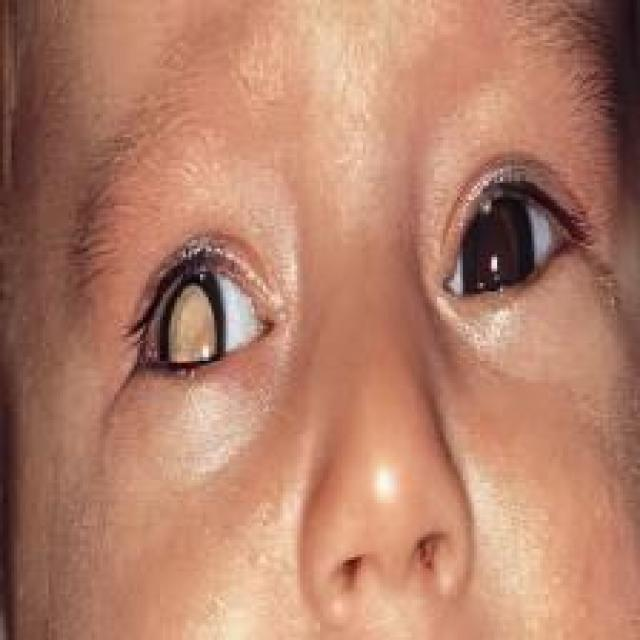reflexo-alterado: (425, 153, 595, 323), (119, 239, 291, 399)
